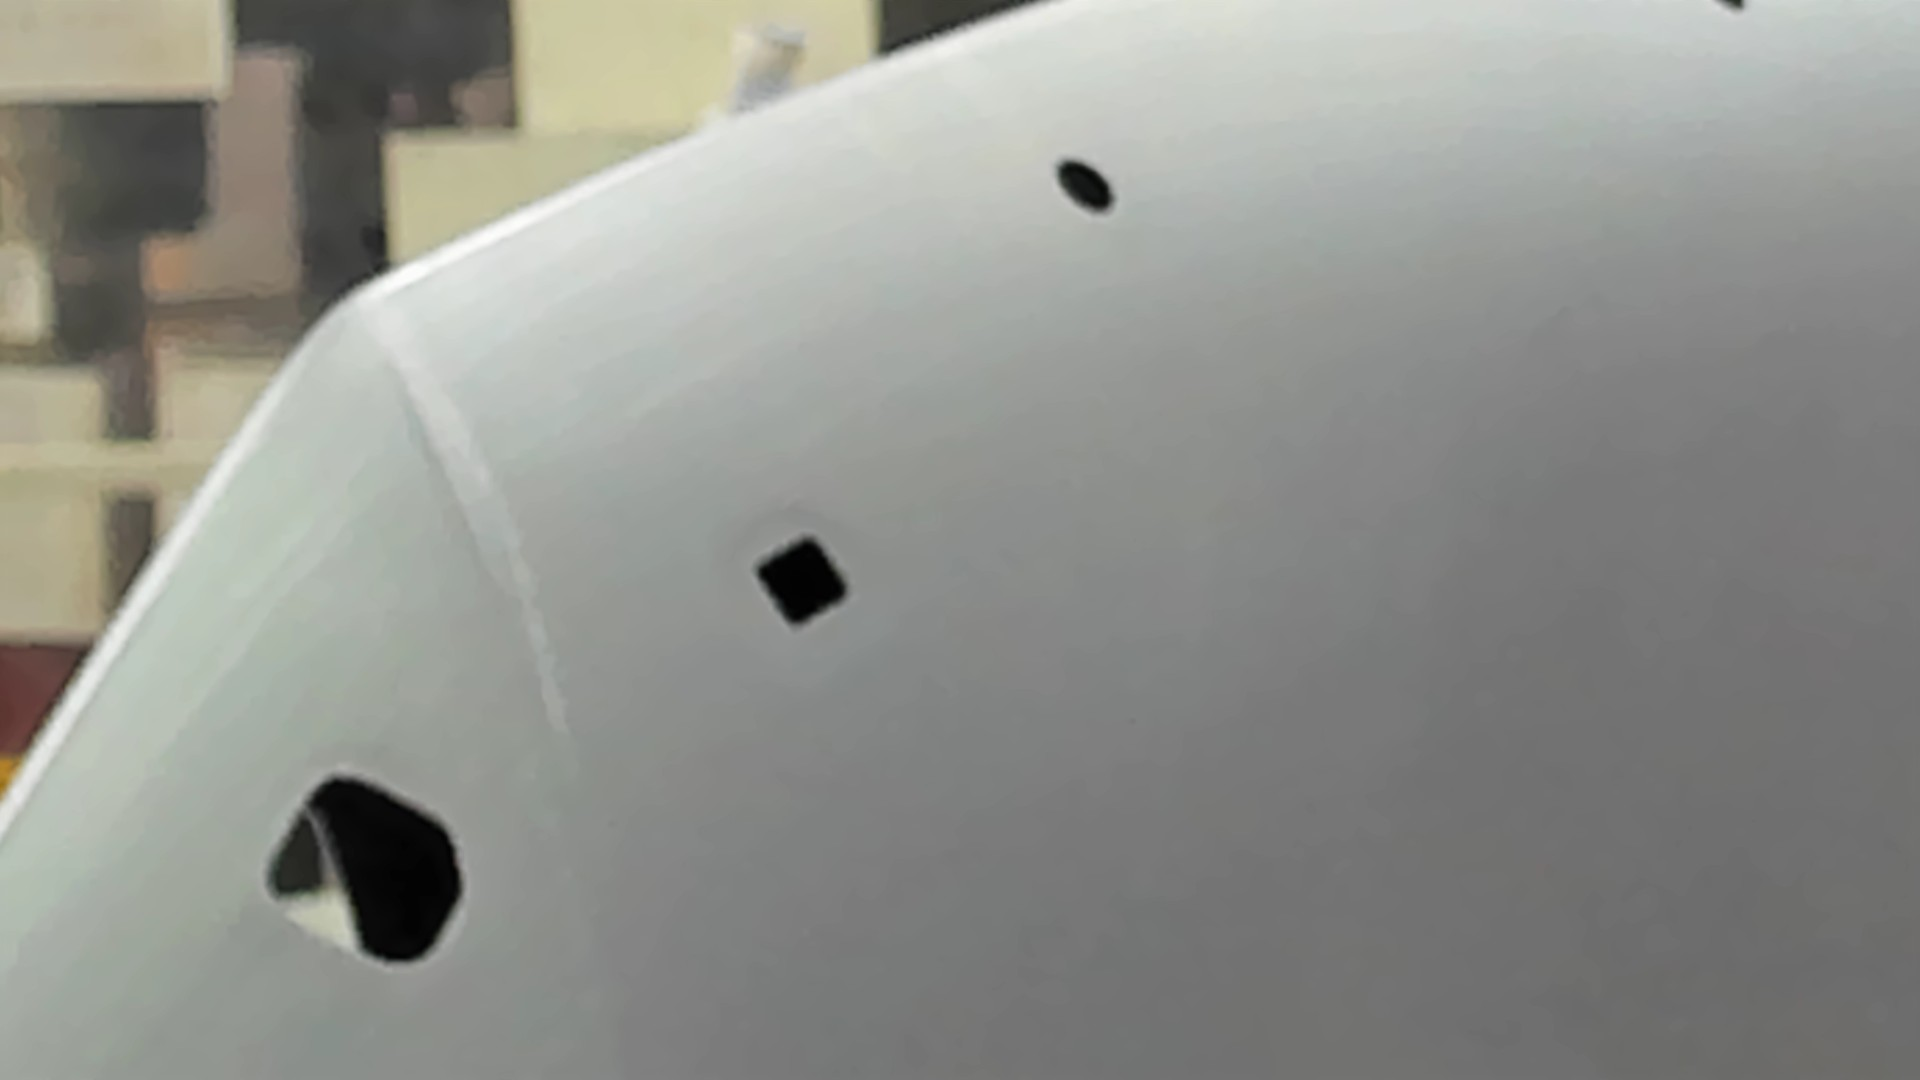chico: (1048, 146, 1120, 222), (1714, 1, 1756, 18)
grande: (260, 761, 473, 976)
mediano: (746, 533, 860, 637)
